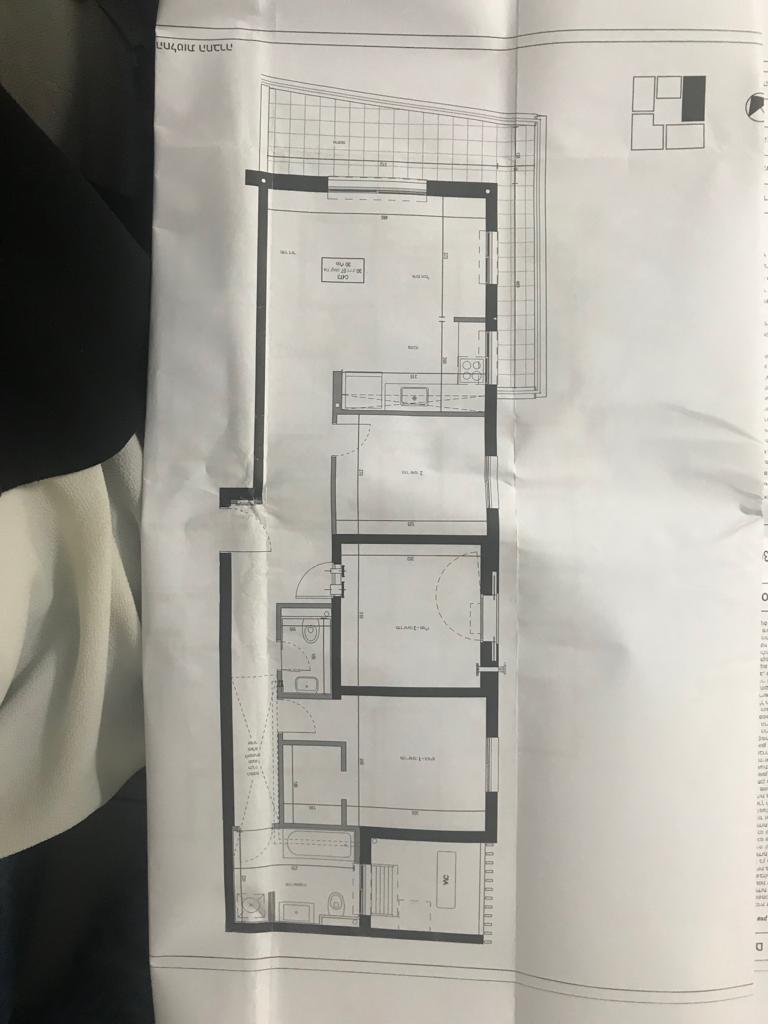door: (286, 558, 352, 606), (322, 415, 380, 464)
wall: (206, 547, 242, 946), (240, 166, 280, 509), (356, 817, 506, 860), (328, 672, 502, 704), (322, 530, 517, 553), (326, 600, 349, 704), (480, 378, 502, 461)
window: (319, 167, 439, 207), (476, 224, 508, 293)
